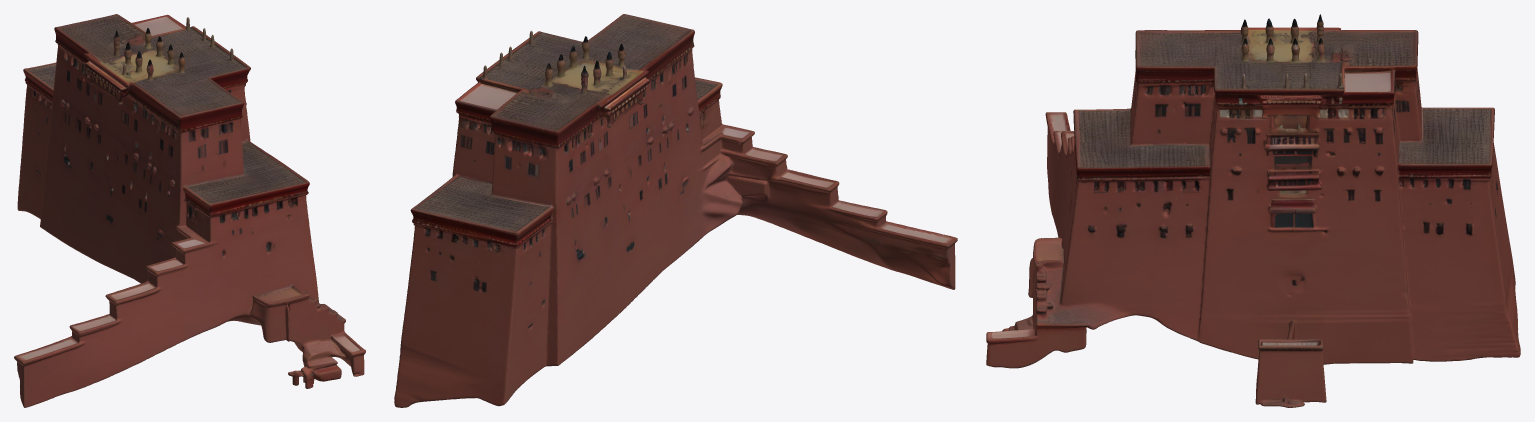
The model's file is leh_palace.glb.
The picture shows the model from 3 angles, left to right: view 1: azimuth 30°, elevation 25°; view 2: azimuth 150°, elevation 25°; view 3: azimuth 270°, elevation 25°; orthographic projection. The views are drawn at different scales.
Visible parts, largest first — view 1: tripo_node_84f5c8df-215c-4f34-86df-d87af75cd2ed; view 2: tripo_node_84f5c8df-215c-4f34-86df-d87af75cd2ed; view 3: tripo_node_84f5c8df-215c-4f34-86df-d87af75cd2ed.
Boxes of the visible parts, x1,y1,x2,y2 form: tripo_node_84f5c8df-215c-4f34-86df-d87af75cd2ed: [14, 14, 365, 407]; tripo_node_84f5c8df-215c-4f34-86df-d87af75cd2ed: [394, 14, 957, 407]; tripo_node_84f5c8df-215c-4f34-86df-d87af75cd2ed: [986, 14, 1520, 407].
Size of the model in its own units: 0.9298 by 0.6277 by 1.
1 material, 1 textured.
